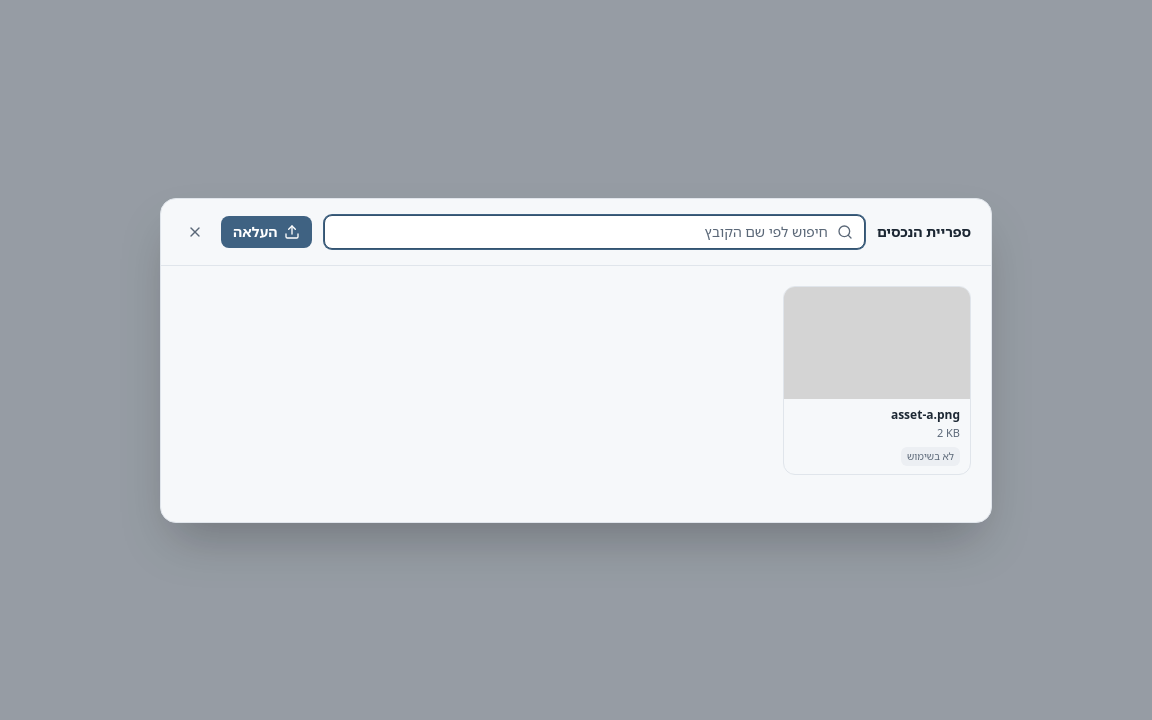
Test case: ספריית הנכסים › מבחינה בין "אין נכסים" לבין "החיפוש לא מצא"
This screenshot has width=1152, height=720.
Type "אין כזה" into the field named "חיפוש נכס" at (594, 232), box [324,214,865,248]
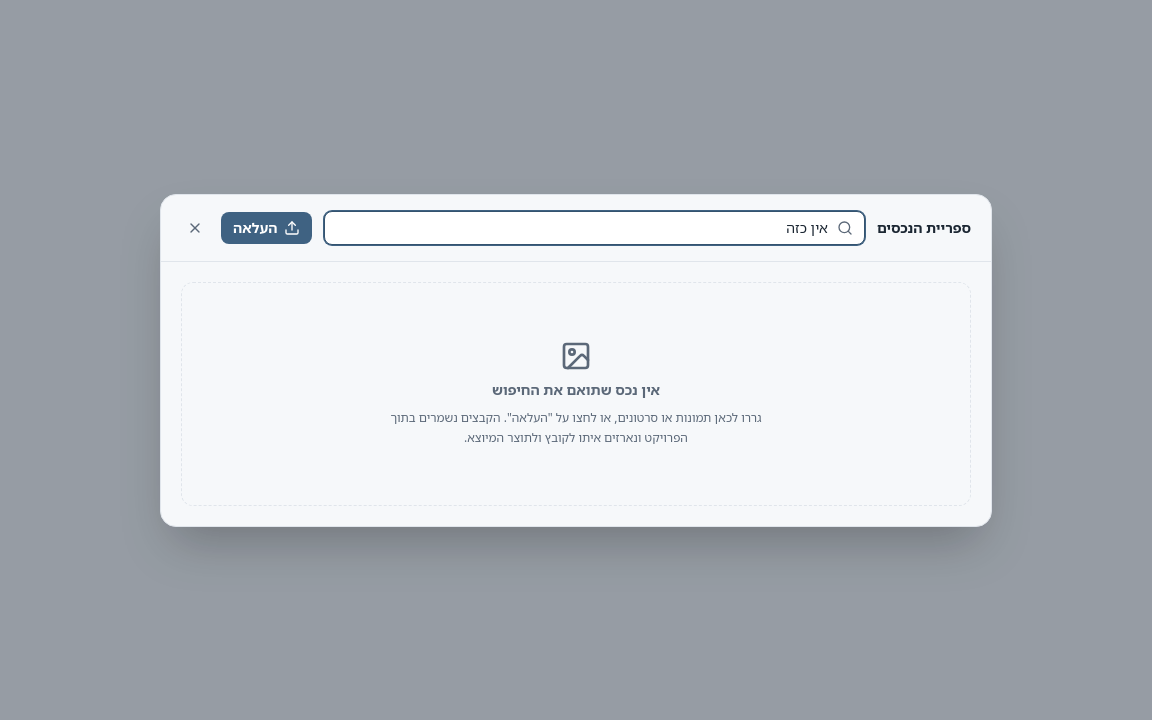
Now the text "אין נכס שתואם את החיפוש" is shown, box [492,380,660,400]
